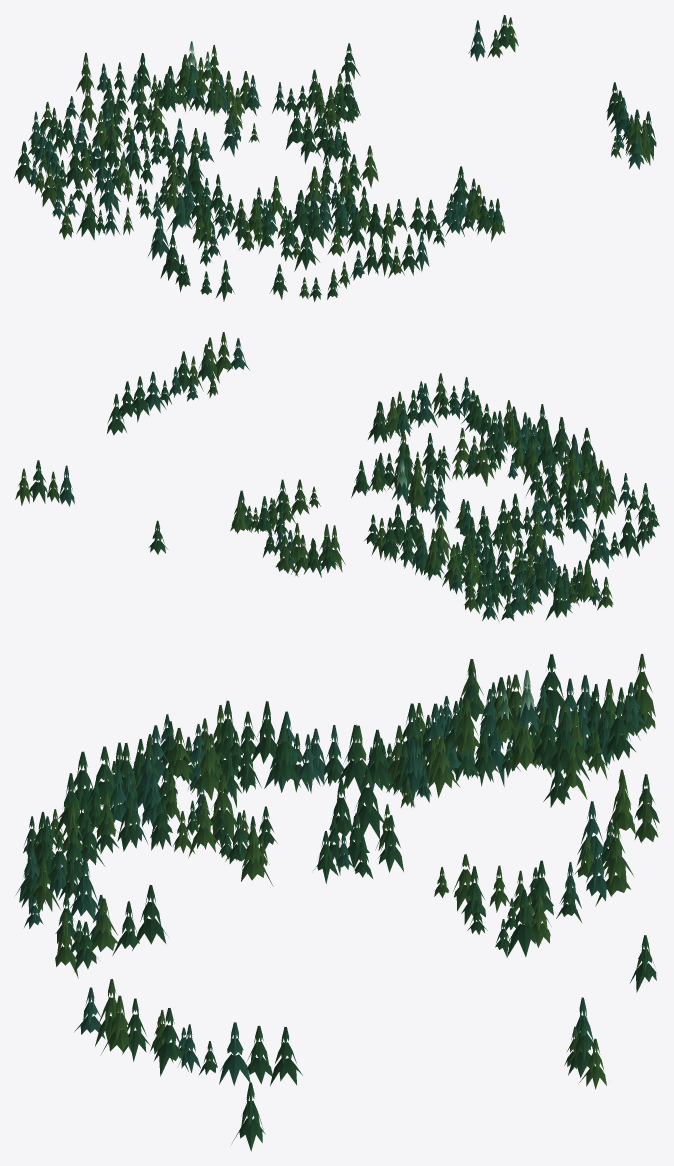
The picture shows the model from 3 angles, top to bottom: view 1: azimuth 30°, elevation 25°; view 2: azimuth 150°, elevation 25°; view 3: azimuth 270°, elevation 25°; orthographic projection. The views are drawn at different scales.
Visible parts, largest first — view 1: pf_0; view 2: pf_0; view 3: pf_0.
Part boxes in pixels (left/top/right/bottom): pf_0: left=14, top=15, right=656, bottom=301; pf_0: left=15, top=332, right=659, bottom=621; pf_0: left=15, top=654, right=659, bottom=1151.
Bounding box in the file's own units: 198 × 47.18 × 133.
Materials: 1 (1 with a texture image).
